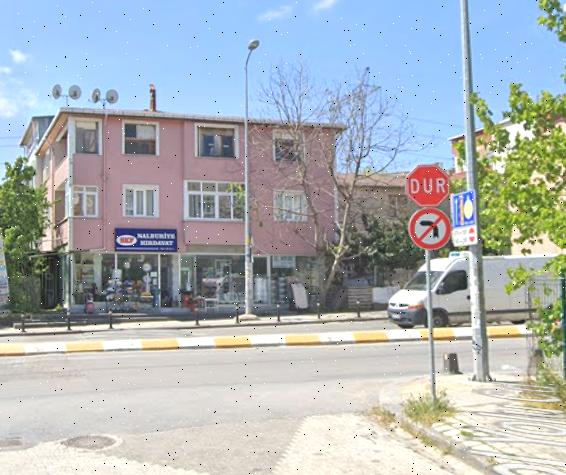leftturnsareforbidden: (405, 208, 455, 252)
stop: (403, 164, 450, 206)
